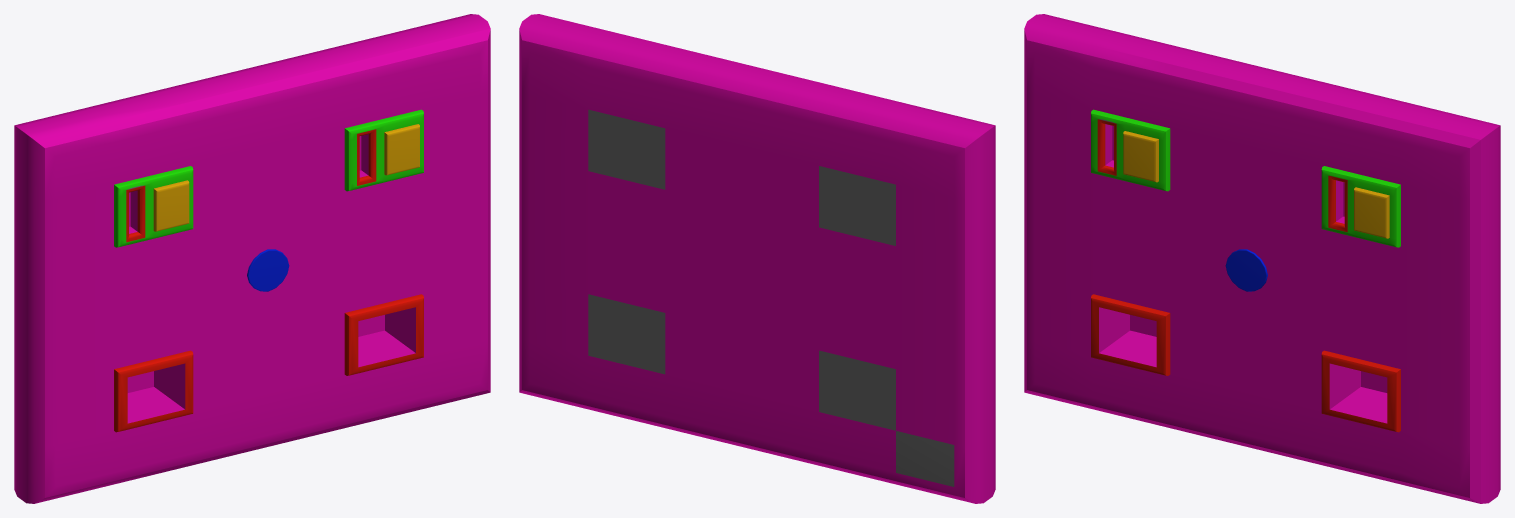
Rendered from coin slot - Copy.fbx.
3 renders of one model, left to right at view 1: azimuth 30°, elevation 25°; view 2: azimuth 150°, elevation 25°; view 3: azimuth 330°, elevation 25°, orthographic.
Parts seen in each view (by area): view 1: COIN_SLOT; view 2: COIN_SLOT; view 3: COIN_SLOT.
Part boxes in pixels (x1=…): COIN_SLOT: x1=14, y1=14, x2=490, y2=503; COIN_SLOT: x1=519, y1=14, x2=995, y2=503; COIN_SLOT: x1=1024, y1=14, x2=1500, y2=503.
Size of the model in its own units: 3.67 by 2.81 by 0.5154.
